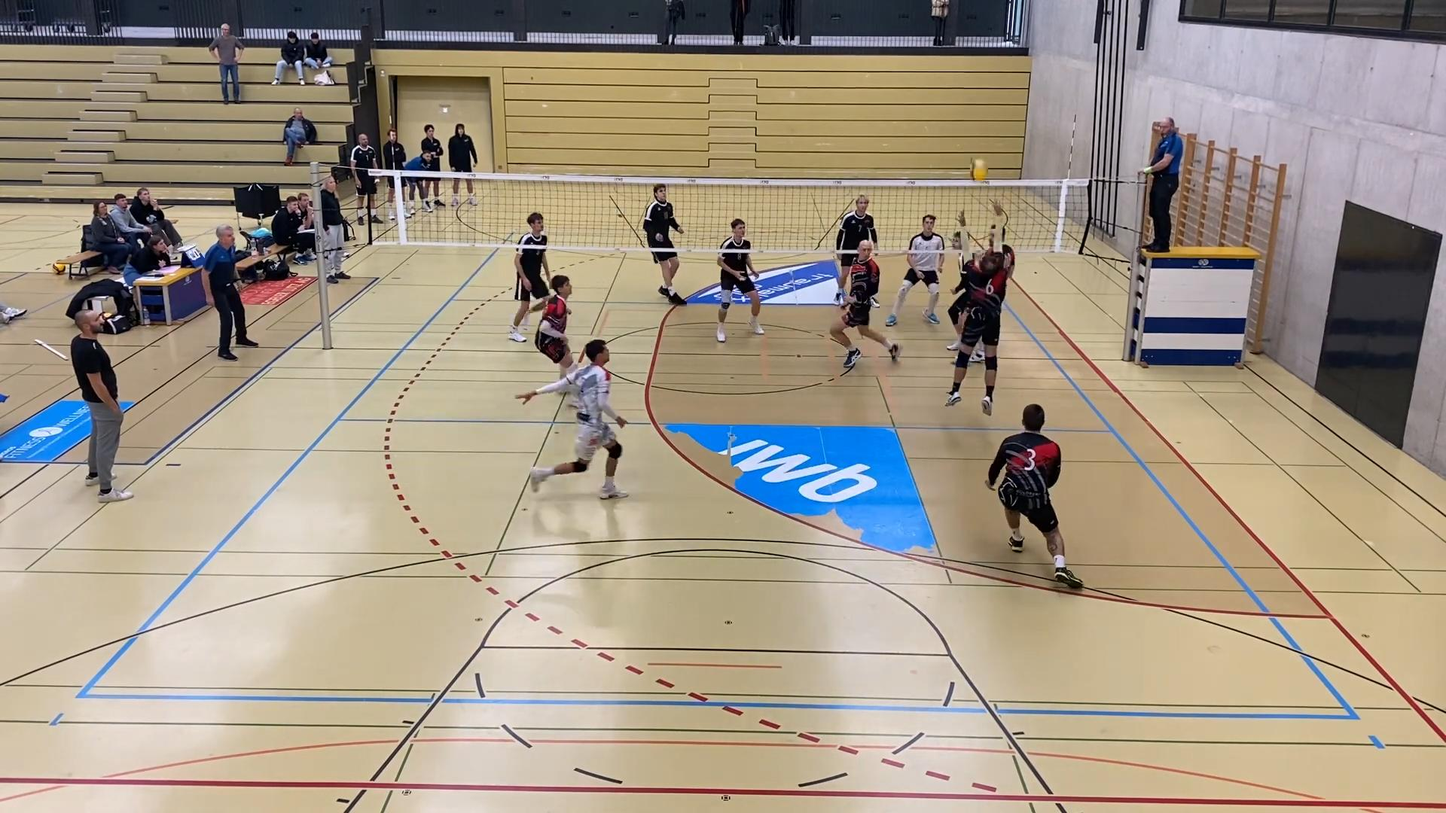difesa: (947, 199, 1015, 420)
